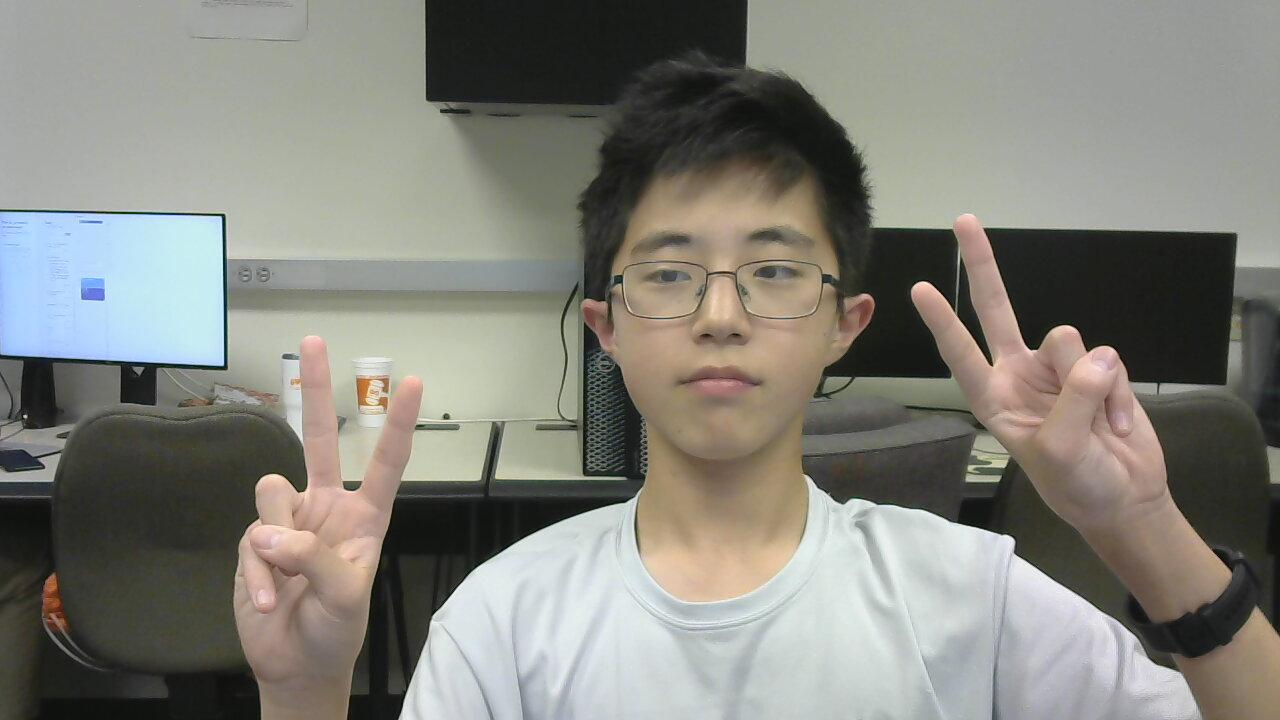peace: (896, 204, 1172, 546), (231, 319, 454, 679)
